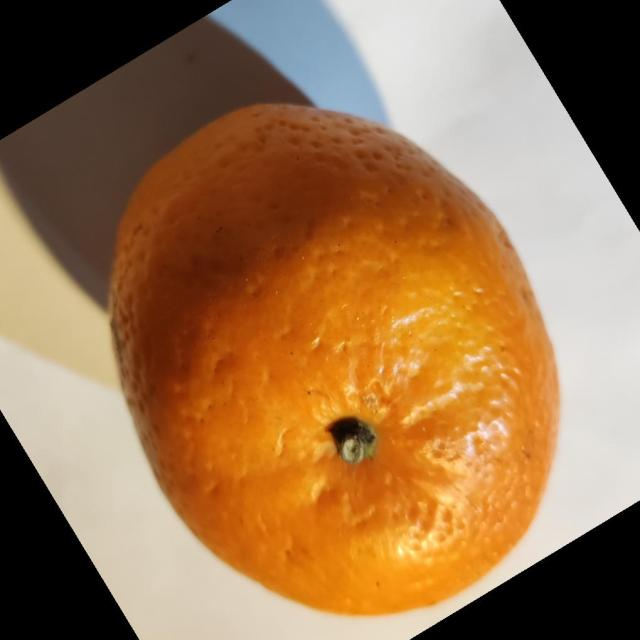fresh orange: (107, 101, 561, 617)
